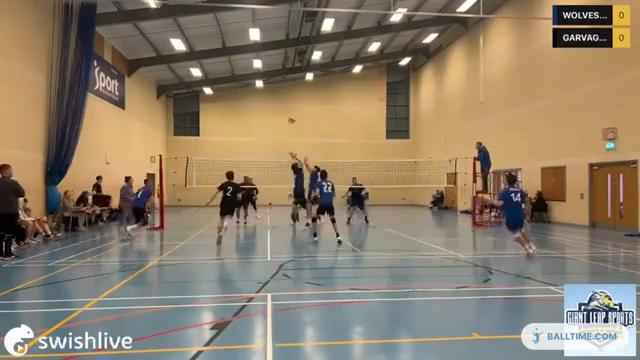alzata: (301, 152, 325, 226)
